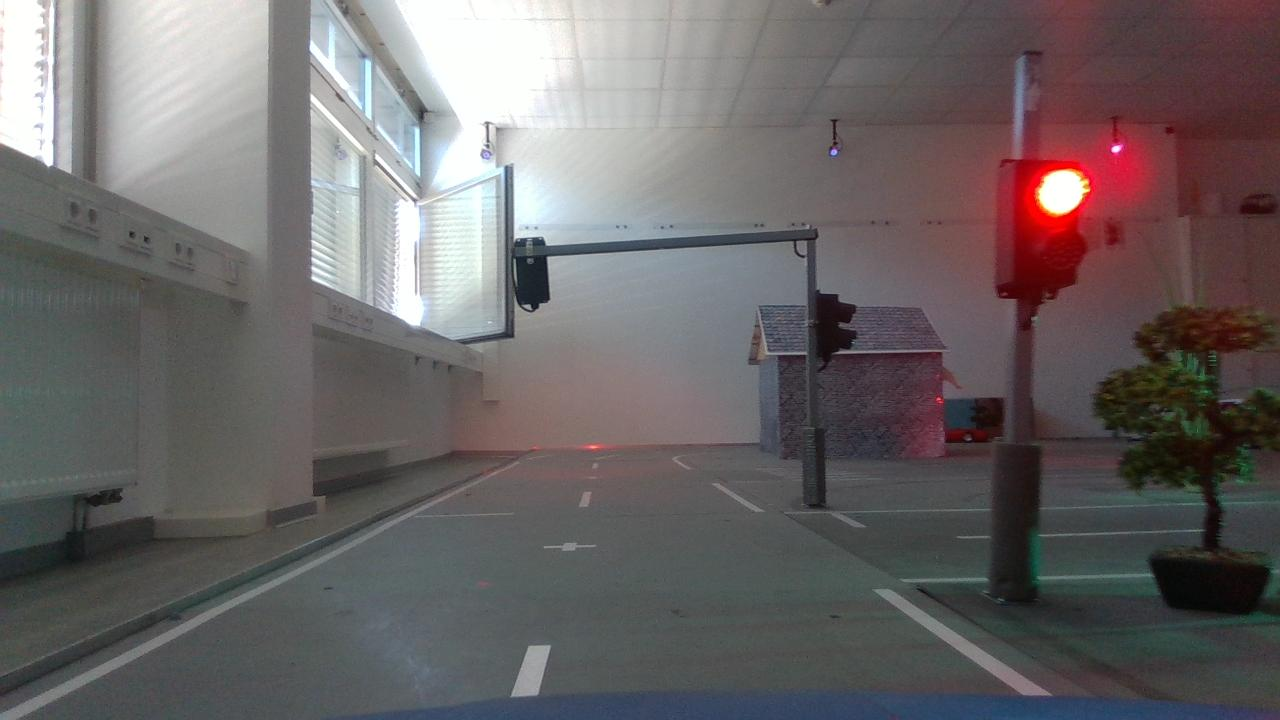traffic_light_red: (982, 145, 1100, 320)
